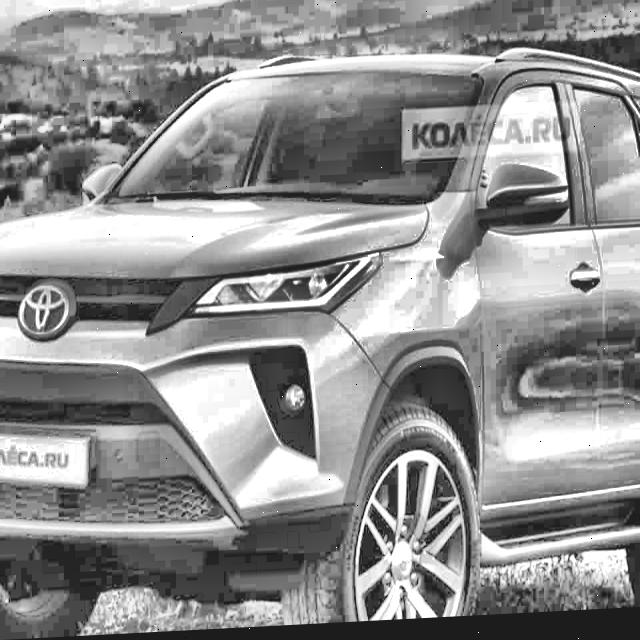light_vehicle: (0, 45, 640, 640)
